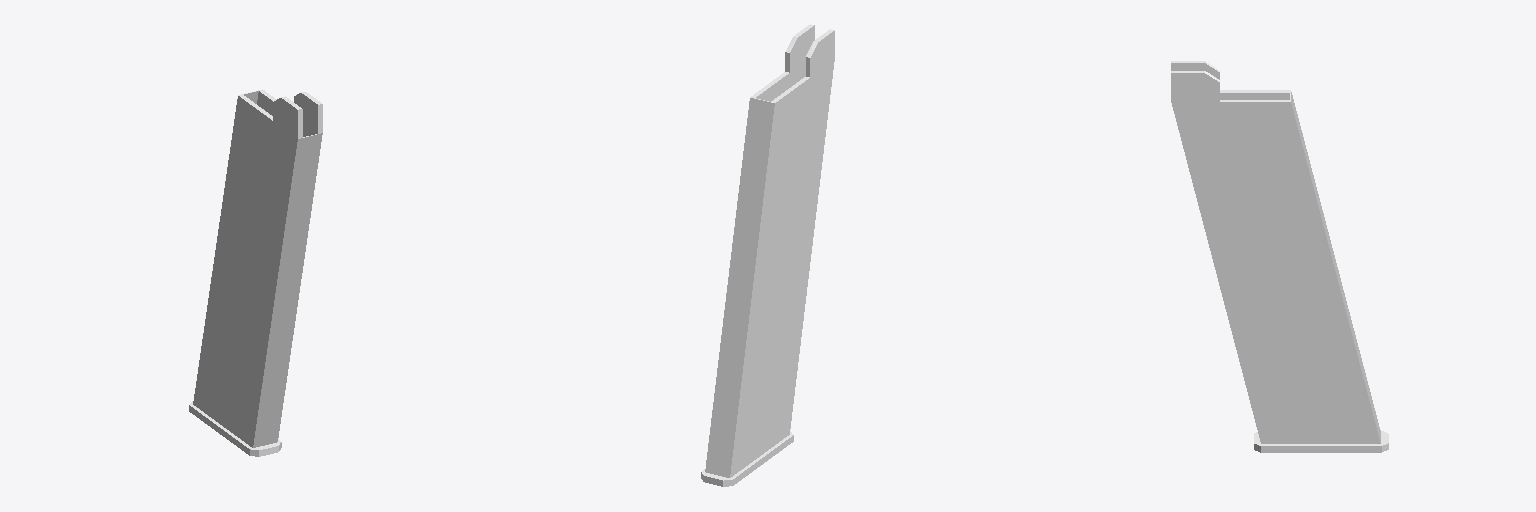
Rendered from FSR-S5-Mag.obj.
3 views of the same model, side by side, from view 1: azimuth 30°, elevation 25°; view 2: azimuth 150°, elevation 25°; view 3: azimuth 270°, elevation 25° (orthographic).
Parts seen in each view (by area): view 1: FSR-S5-Mag; view 2: FSR-S5-Mag; view 3: FSR-S5-Mag.
Boxes of the visible parts, box(x1,y1,x2,y2) form: FSR-S5-Mag: box(189, 89, 322, 456); FSR-S5-Mag: box(701, 24, 834, 486); FSR-S5-Mag: box(1171, 61, 1388, 452).
Size of the model in its own units: 0.5121 by 5.8 by 3.02.